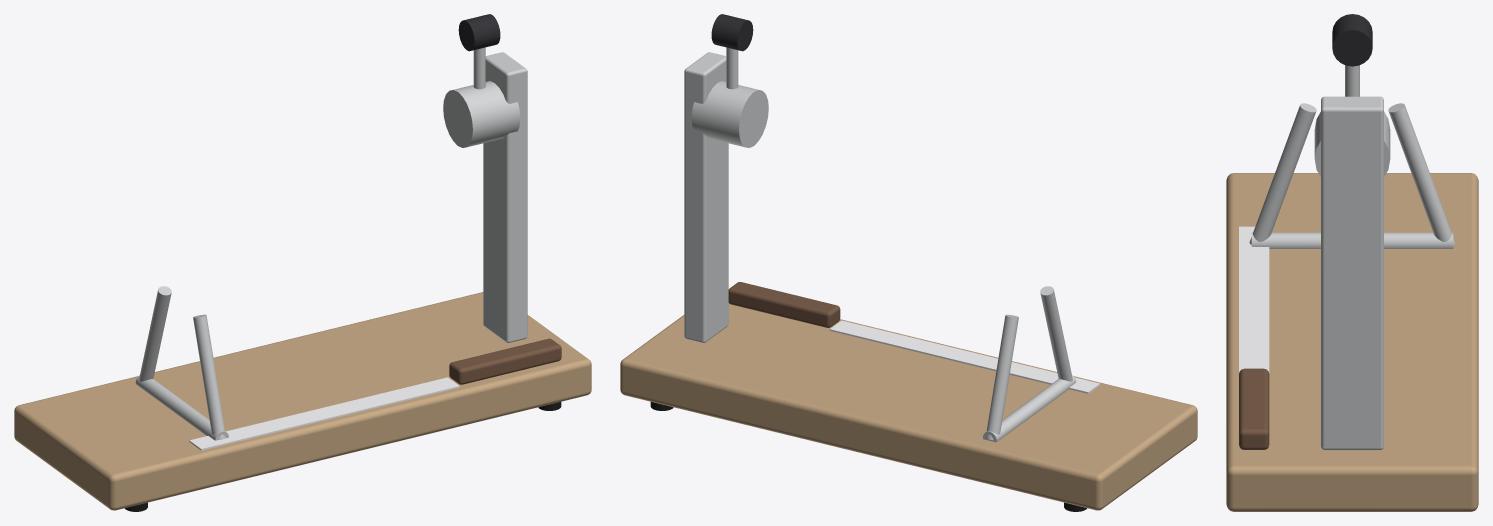
Rendered from jamonero.glb.
The picture shows the model from 3 angles, left to right: view 1: azimuth 30°, elevation 25°; view 2: azimuth 150°, elevation 25°; view 3: azimuth 270°, elevation 25°; orthographic projection. The views are drawn at different scales.
Visible parts, largest first — view 1: tabla, cuna_1, hoja, mango, pomo; view 2: tabla, cuna_1, hoja, mango, pomo; view 3: tabla, cuna_1, hoja, mango, pomo.
Part boxes in pixels (x1,y1,x2,y2): tabla: (14, 292, 591, 510); cuna_1: (135, 47, 527, 440); hoja: (189, 377, 459, 450); mango: (449, 338, 561, 384); pomo: (458, 14, 500, 51); tabla: (620, 303, 1197, 510); cuna_1: (684, 47, 1076, 442); hoja: (829, 320, 1100, 393); mango: (728, 282, 840, 327); pomo: (711, 14, 753, 51); tabla: (1226, 173, 1478, 511); cuna_1: (1249, 65, 1455, 450); hoja: (1239, 226, 1269, 372); mango: (1239, 368, 1269, 449); pomo: (1332, 14, 1372, 66).
Bounding box in the file's own units: 0.56 × 0.406 × 0.2.
